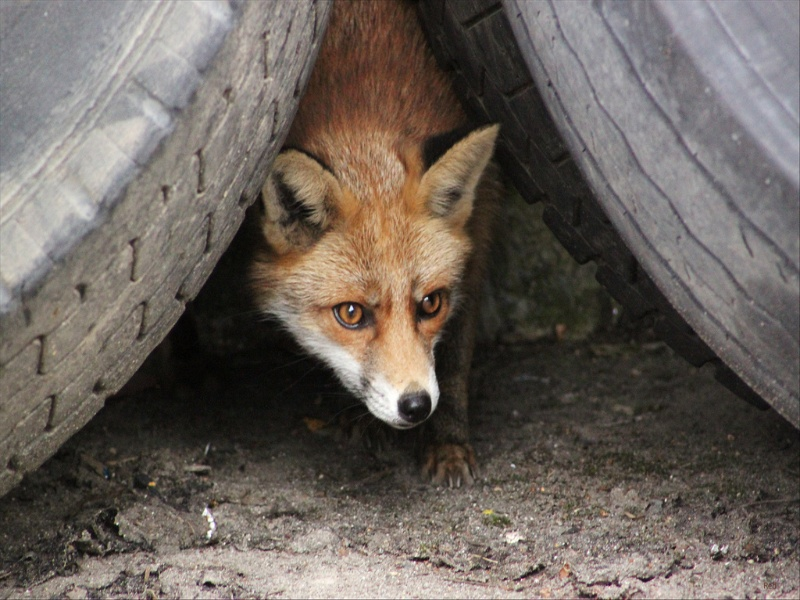fox: (228, 4, 500, 494)
